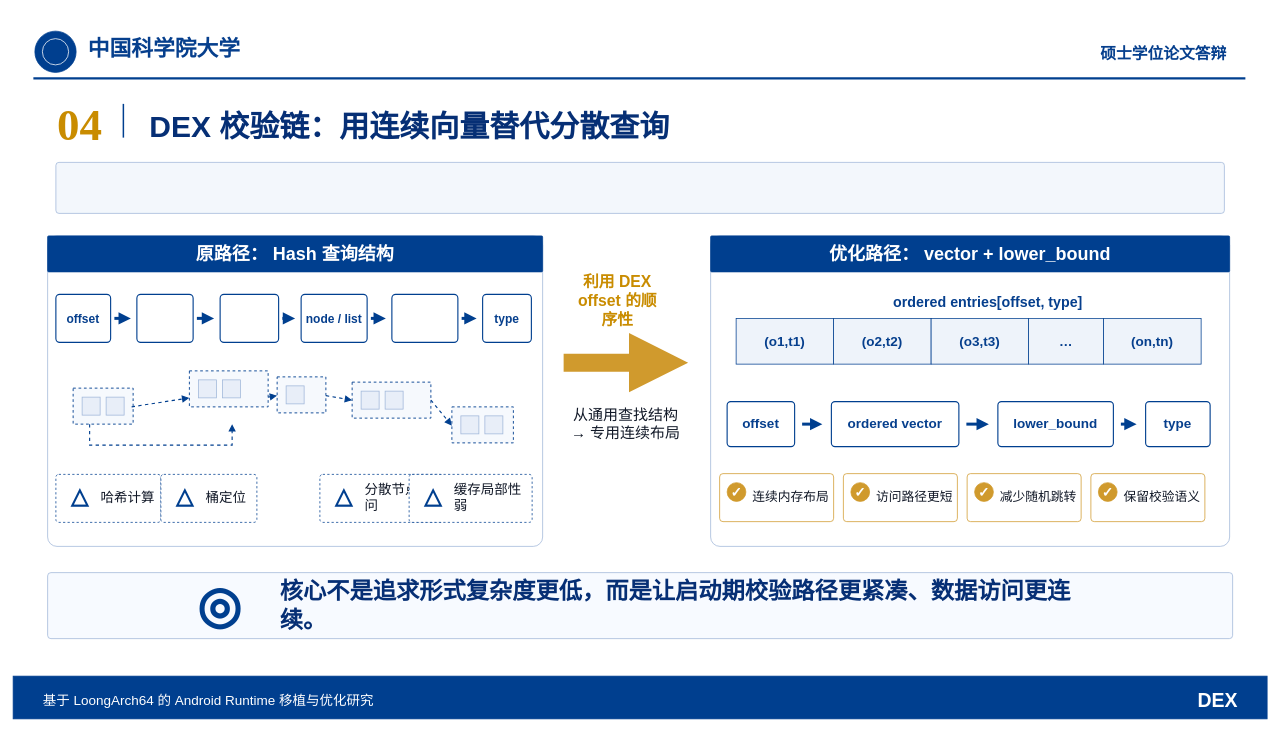
The diagram is 1280 pixels wide and 732 high, and some of its shapes have lost their labels. Each missing label, with the box of its shape:
bucket: (219, 293, 279, 343)
compare key: (391, 293, 458, 343)
hash(): (136, 293, 193, 343)
UCAS: (42, 38, 69, 65)
启动期 DEX 校验中的类型映射查询更接近按 offset 查找有序条目；本文将通用 Hash 查询收缩为面向 DEX offset 顺序性的专用查找路径。: (55, 162, 1224, 213)
